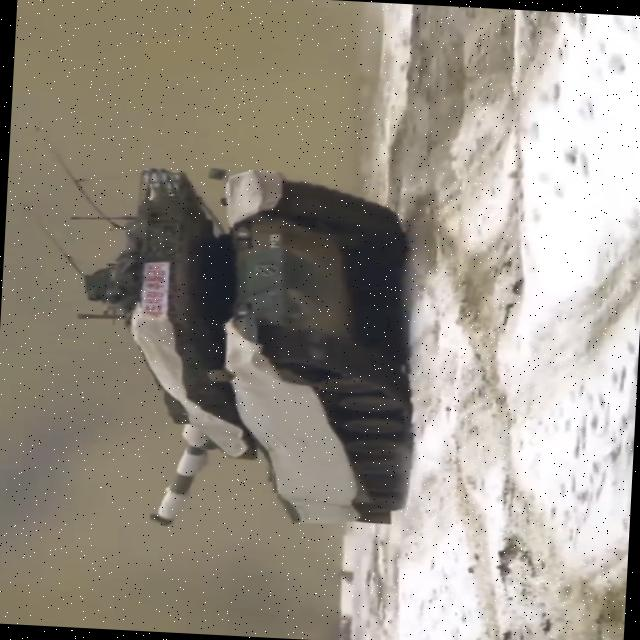korea tank: (66, 159, 429, 539)
